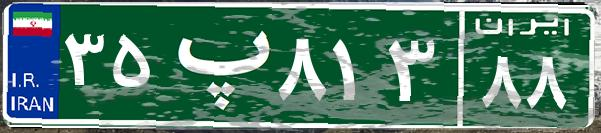1: (330, 28, 385, 110)
3: (385, 28, 445, 110), (57, 26, 110, 107)
5: (110, 28, 158, 105)
8: (273, 28, 330, 110), (475, 38, 525, 113), (525, 38, 570, 115)
پ: (158, 15, 273, 115)
